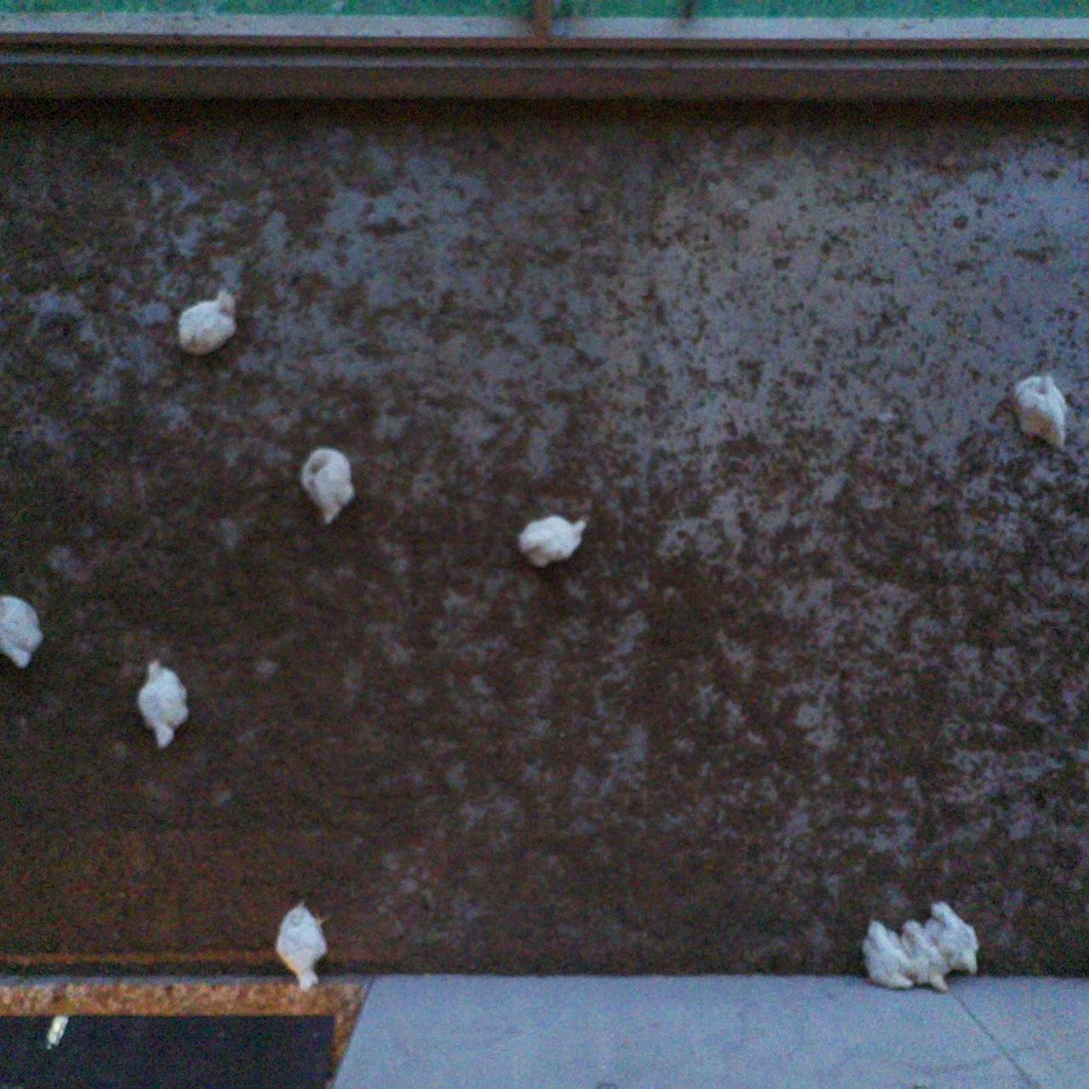chicken: (272, 898, 331, 993), (134, 654, 191, 751), (1006, 371, 1072, 452), (298, 443, 356, 526), (922, 896, 982, 974), (173, 287, 237, 355), (897, 916, 951, 993), (860, 918, 914, 994), (0, 588, 47, 671), (517, 512, 584, 569)
